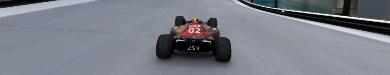Car: (155, 15, 231, 61)
obstacles-Borders: (236, 0, 389, 38)
